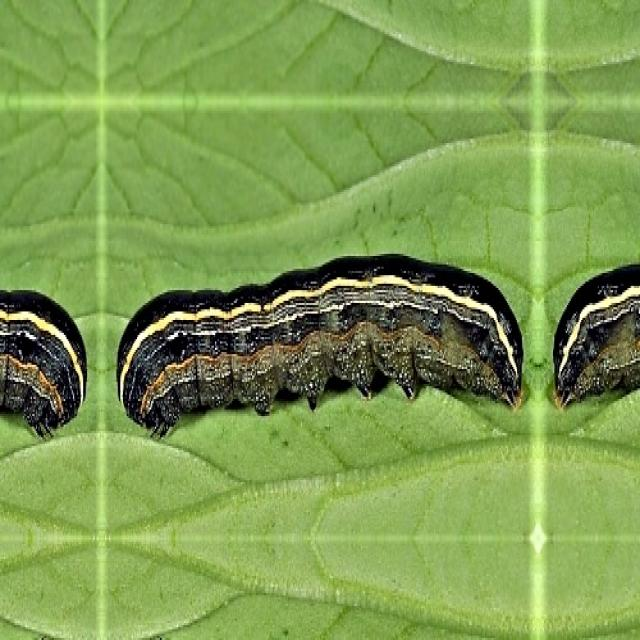armyworm: (115, 252, 524, 439), (0, 286, 87, 439), (552, 260, 638, 408)
